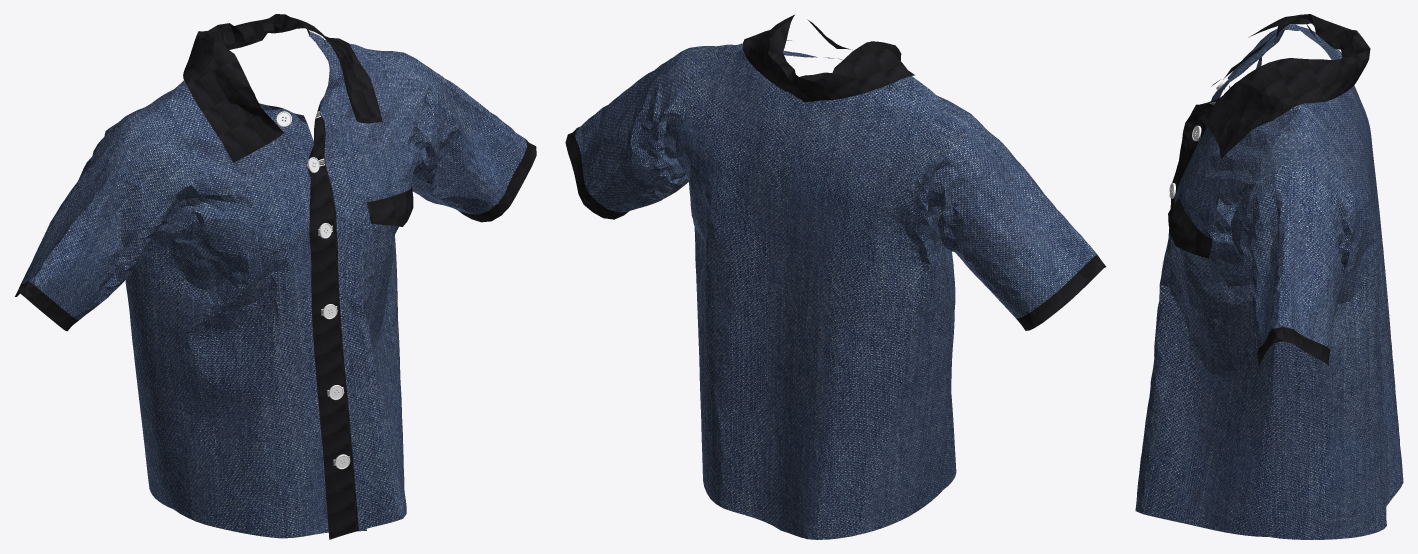
Rendered from halfshirt-old.glb.
The picture shows the model from 3 angles, left to right: view 1: azimuth 30°, elevation 25°; view 2: azimuth 150°, elevation 25°; view 3: azimuth 270°, elevation 25°; orthographic projection.
Bounding box in the file's own units: 38.4 × 32.52 × 16.8.
Materials: 4 (3 with a texture image).
